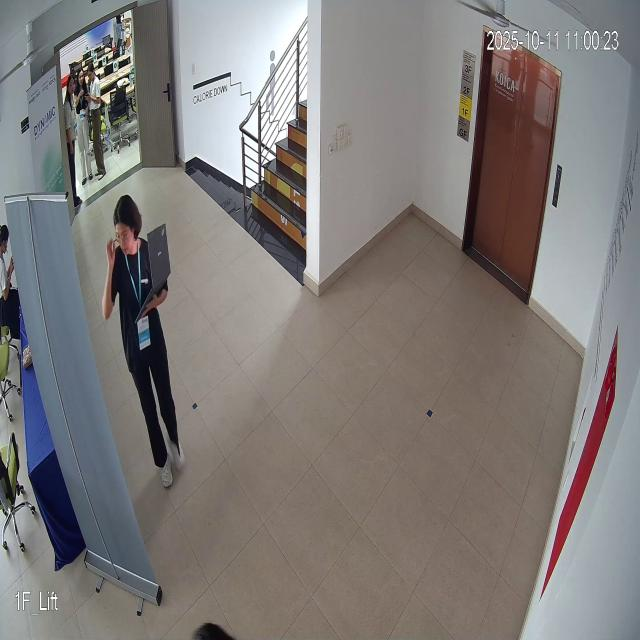face: (110, 187, 145, 261)
